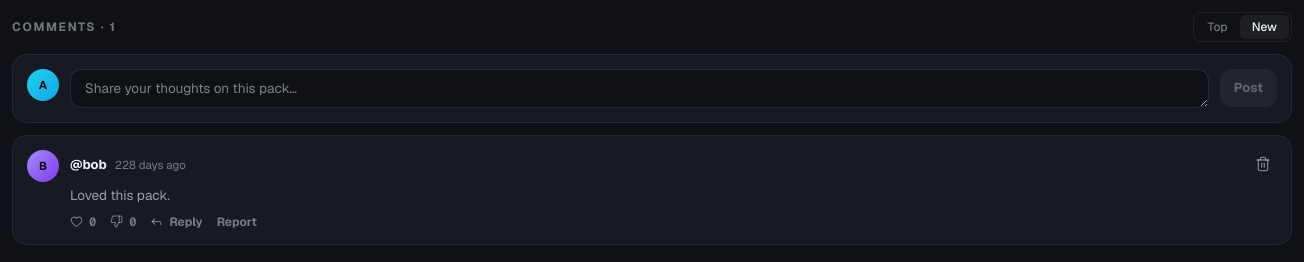
Test: CommentSection › delete affordance › deletes a comment on confirm and removes it from the list
Step 1. Click the button named "Delete comment" → (1263, 164), box left=1249, top=150, right=1277, bottom=178
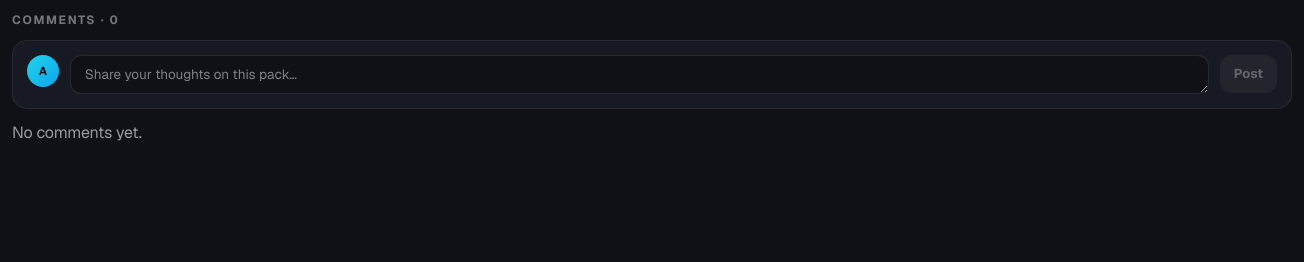
Expected: the text "Loved this pack." is gone
Expected: the heading "Comments · 0" is shown, left=12, top=12, right=120, bottom=28
